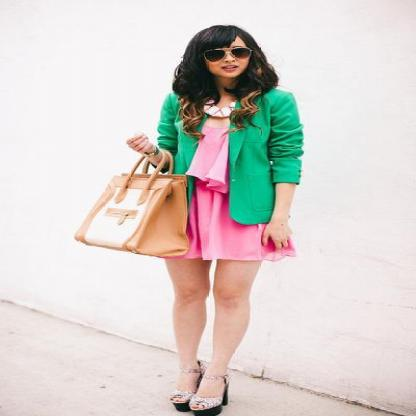bag: (74, 147, 196, 256)
dress: (175, 118, 294, 261)
jacket: (157, 87, 303, 224)
shoe: (174, 385, 212, 407)
